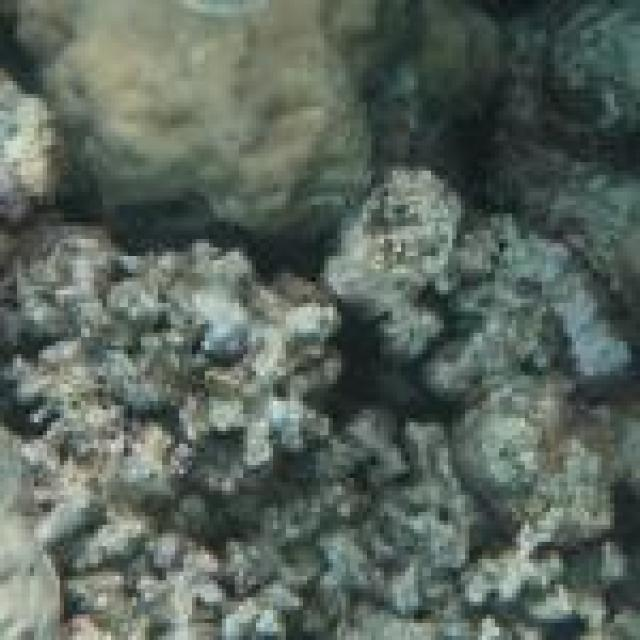Dead Coral: (14, 222, 640, 640)
